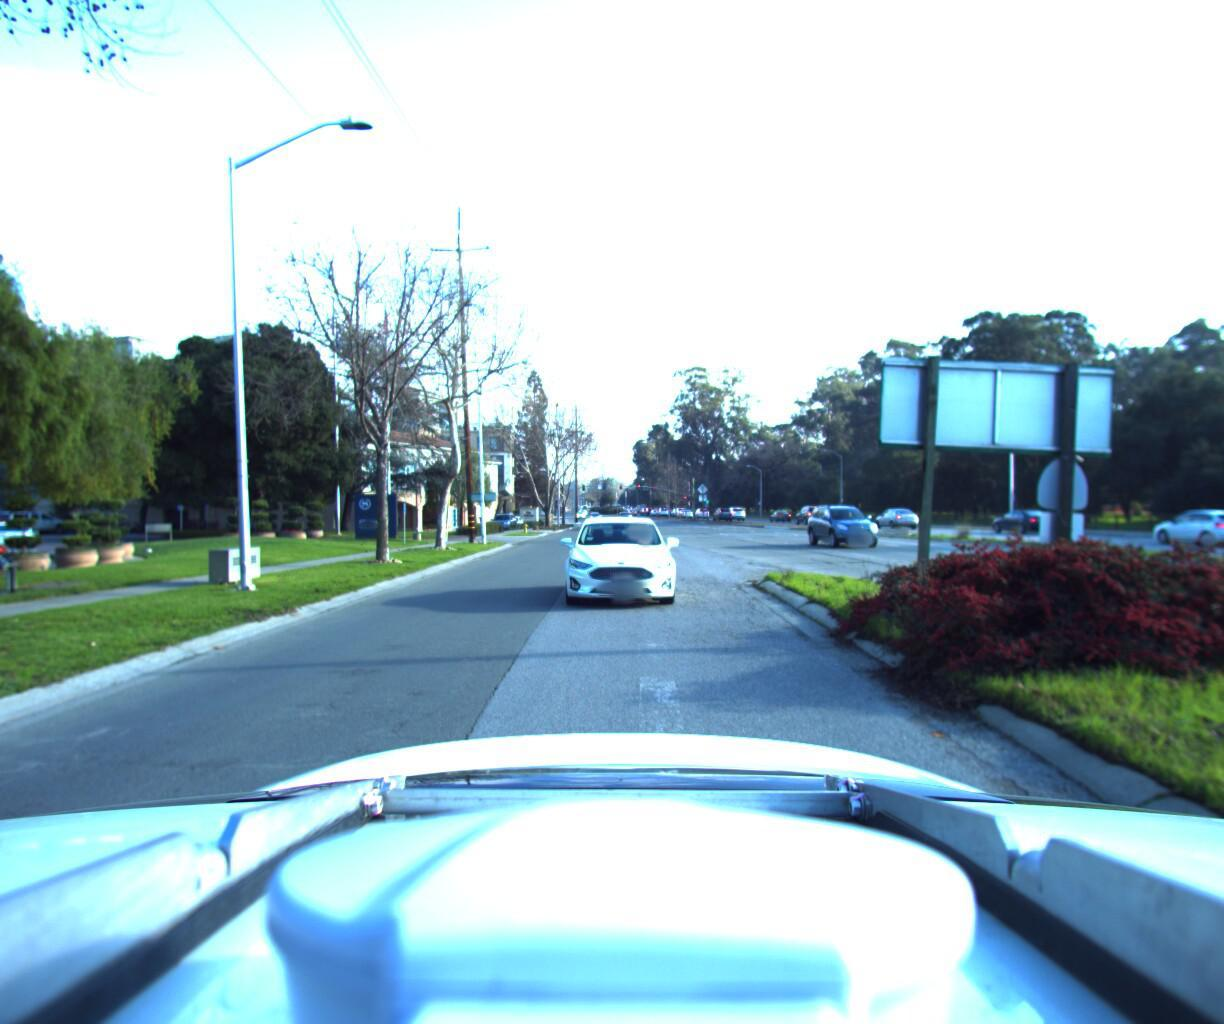car: (560, 507, 671, 609), (814, 499, 902, 548), (1127, 503, 1224, 542), (0, 516, 36, 559), (863, 503, 913, 525), (790, 500, 824, 518)
